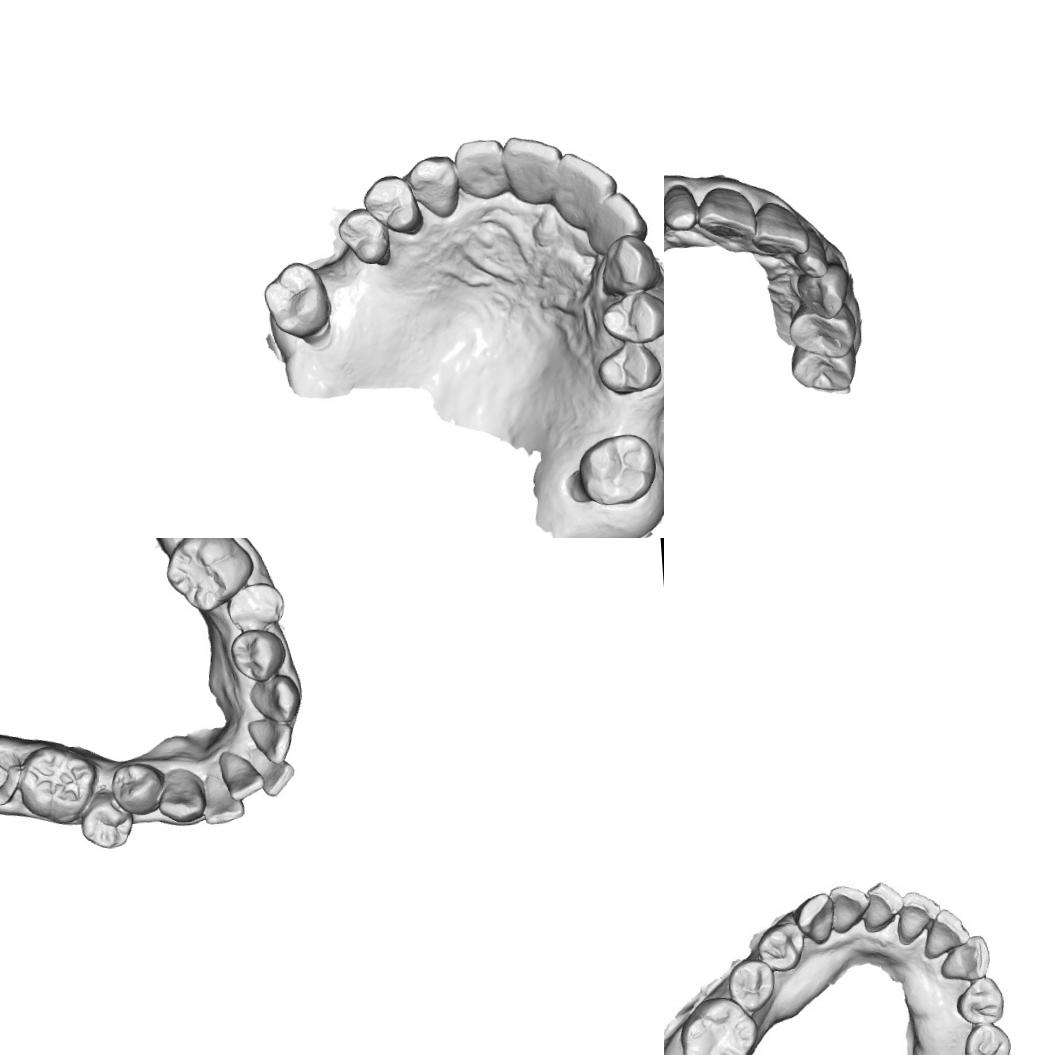canine: (594, 230, 662, 302), (405, 154, 462, 219), (792, 260, 852, 321), (154, 765, 208, 825), (247, 672, 304, 724), (937, 936, 991, 985), (793, 890, 836, 948)
incisor: (550, 148, 620, 232), (501, 132, 564, 208), (582, 187, 649, 254), (693, 182, 757, 247), (747, 197, 810, 258), (450, 137, 506, 201), (216, 746, 266, 802), (247, 742, 296, 798), (200, 770, 246, 826), (246, 715, 294, 766), (895, 882, 936, 941), (790, 224, 830, 280), (828, 881, 868, 931), (860, 878, 897, 931), (664, 179, 699, 234), (922, 910, 962, 956)
molar: (13, 740, 100, 826), (161, 538, 256, 613), (574, 430, 656, 512), (260, 258, 333, 342), (676, 991, 762, 1055)
premolar: (784, 300, 860, 362), (360, 173, 424, 238), (595, 340, 664, 397), (598, 287, 664, 346), (787, 340, 856, 394), (334, 204, 392, 268), (78, 786, 136, 850), (227, 626, 287, 684), (224, 580, 287, 634), (108, 760, 166, 818), (728, 956, 774, 1010), (956, 978, 1006, 1026), (758, 923, 802, 966), (967, 1020, 1009, 1055)
